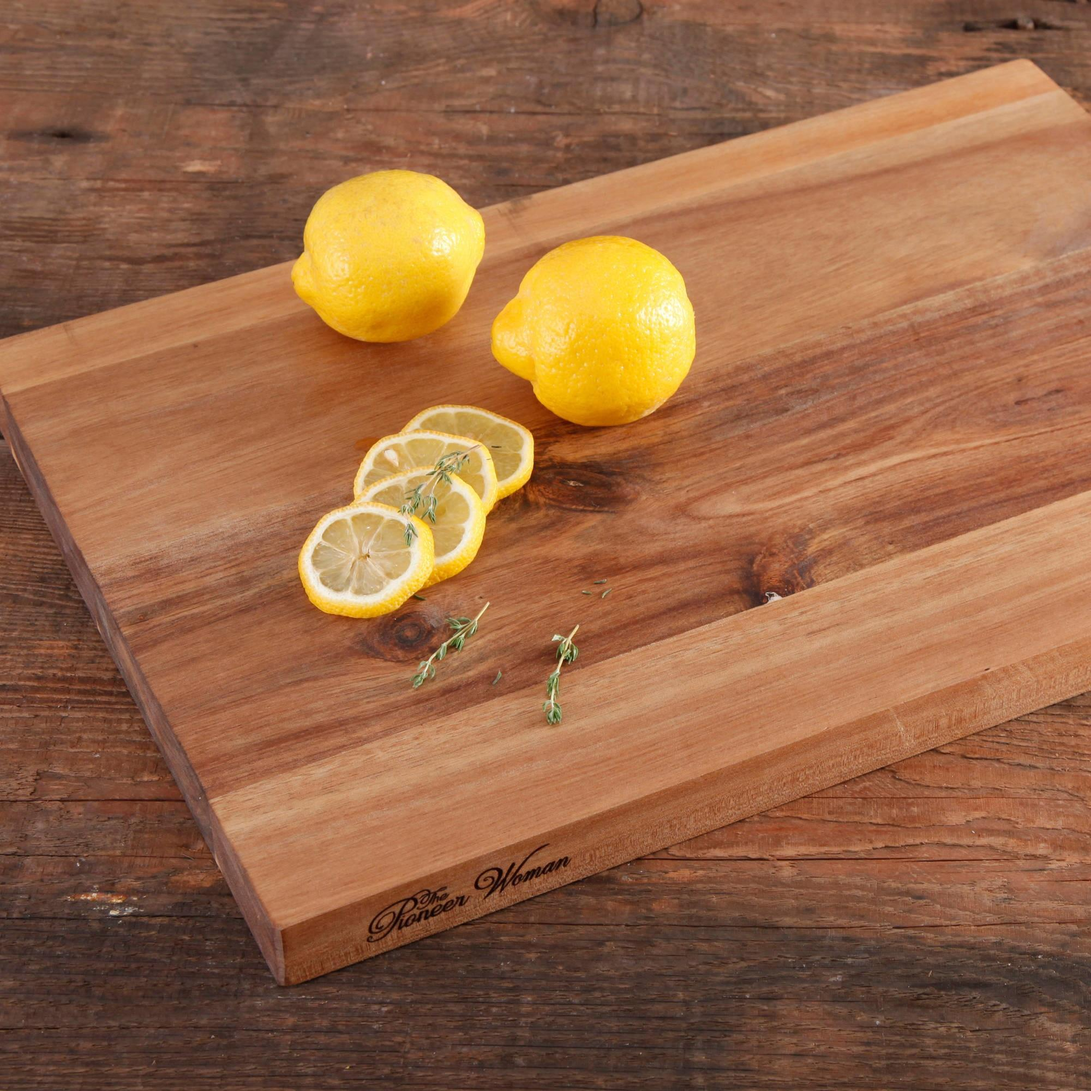gloved_hand: (1, 47, 1091, 994)
